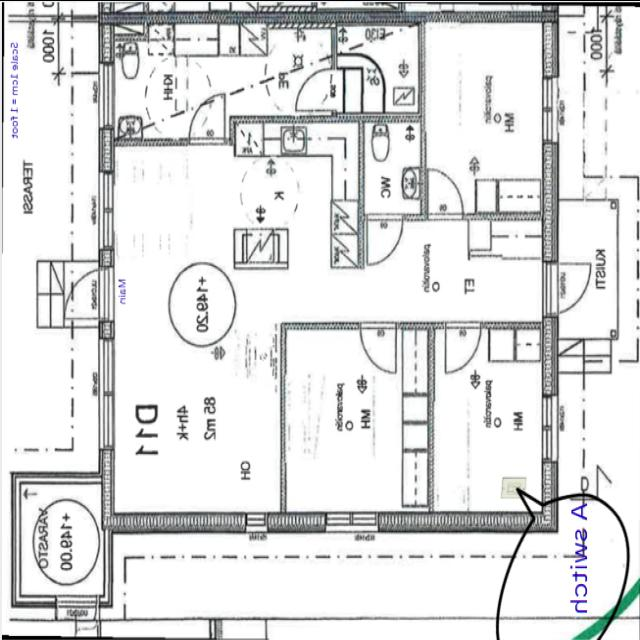main: (57, 259, 139, 333)
switch: (497, 472, 530, 501)
wall: (376, 509, 566, 539), (99, 505, 249, 540), (537, 136, 563, 270), (536, 310, 564, 400), (94, 443, 118, 539), (264, 506, 330, 538), (537, 16, 563, 86), (542, 458, 564, 538), (96, 123, 114, 177)
